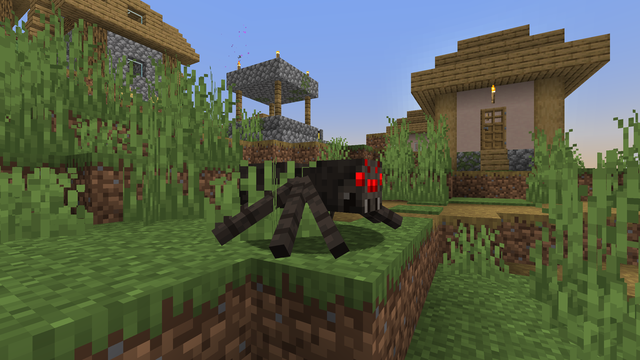araignees: (222, 143, 392, 261)
